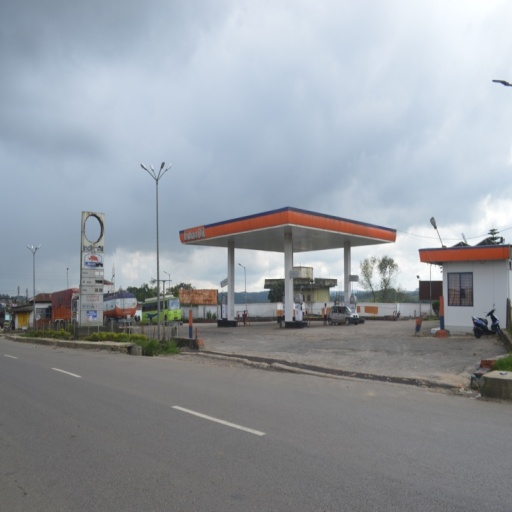roof: (177, 205, 396, 254)
